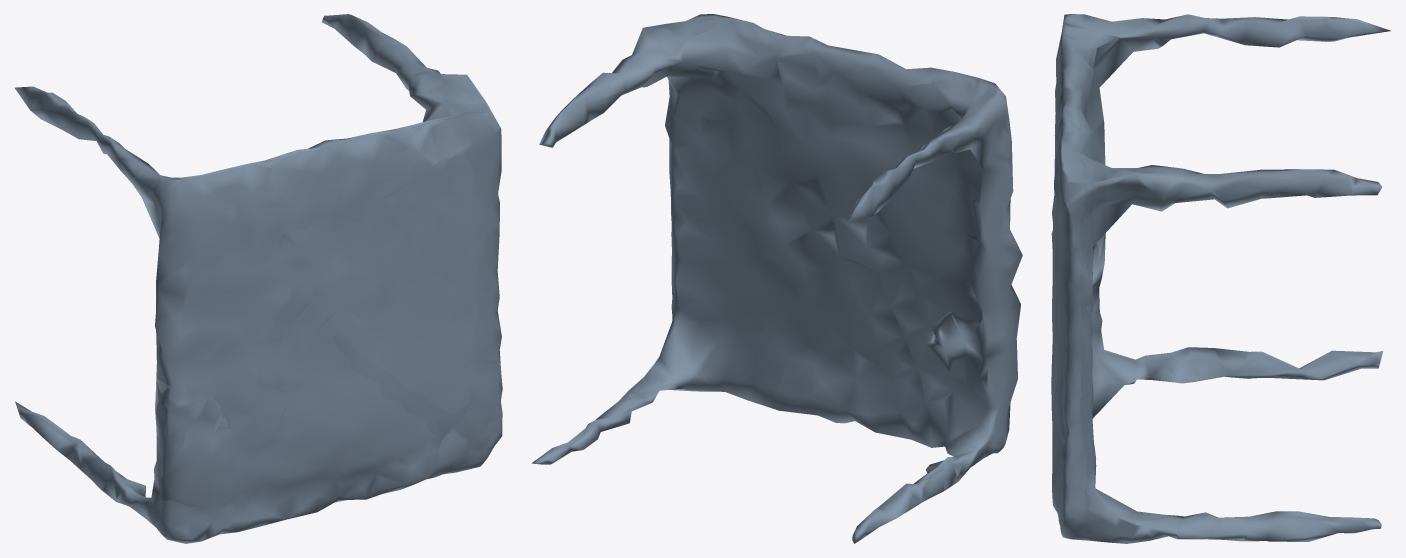
The model's file is table_0316_recon.obj.
3 views of the same model, side by side, from view 1: azimuth 30°, elevation 25°; view 2: azimuth 150°, elevation 25°; view 3: azimuth 270°, elevation 25° (orthographic). The views are drawn at different scales.
Bounding box in the file's own units: 1.1 × 1.14 × 0.9069.
